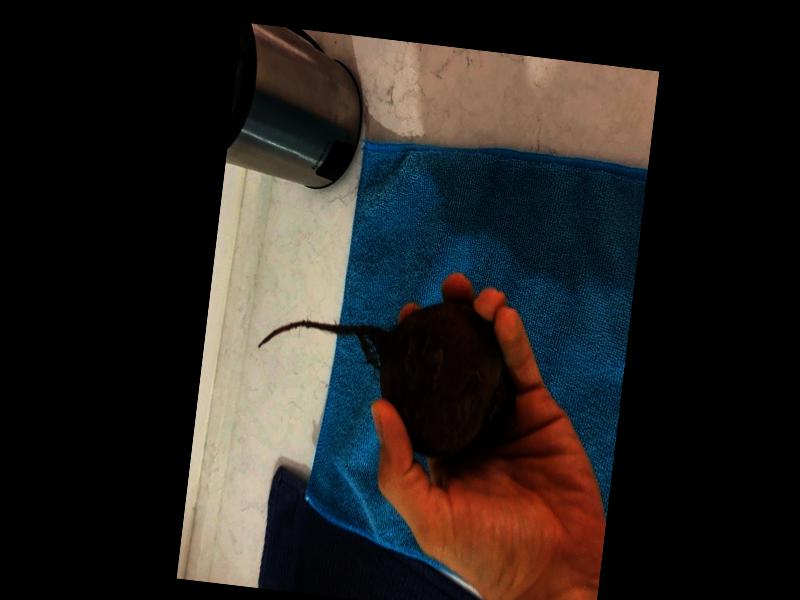Beet: (248, 278, 527, 466)
